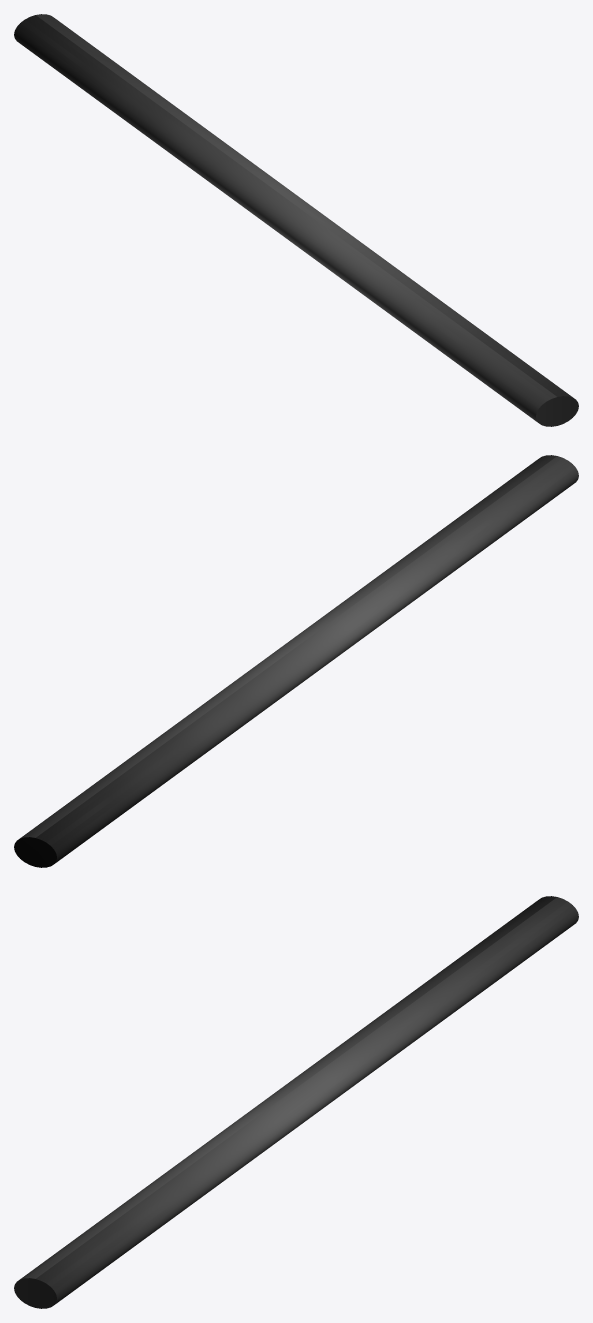
Rendered from original-65.obj.
3 renders of one model, top to bottom at view 1: azimuth 30°, elevation 25°; view 2: azimuth 150°, elevation 25°; view 3: azimuth 330°, elevation 25°, orthographic.
Parts seen in each view (by area): view 1: Group51/mesh80/mesh80-geometry#mesh80-geometry; view 2: Group51/mesh80/mesh80-geometry#mesh80-geometry; view 3: Group51/mesh80/mesh80-geometry#mesh80-geometry.
Boxes of the visible parts, box(x1,y1,x2,y2) form: Group51/mesh80/mesh80-geometry#mesh80-geometry: box(14, 14, 578, 426); Group51/mesh80/mesh80-geometry#mesh80-geometry: box(14, 455, 578, 867); Group51/mesh80/mesh80-geometry#mesh80-geometry: box(14, 896, 578, 1308).
Bounding box in the file's own units: 0.016 × 0.0103 × 0.3348.
Materials: 1 (1 with a texture image).
